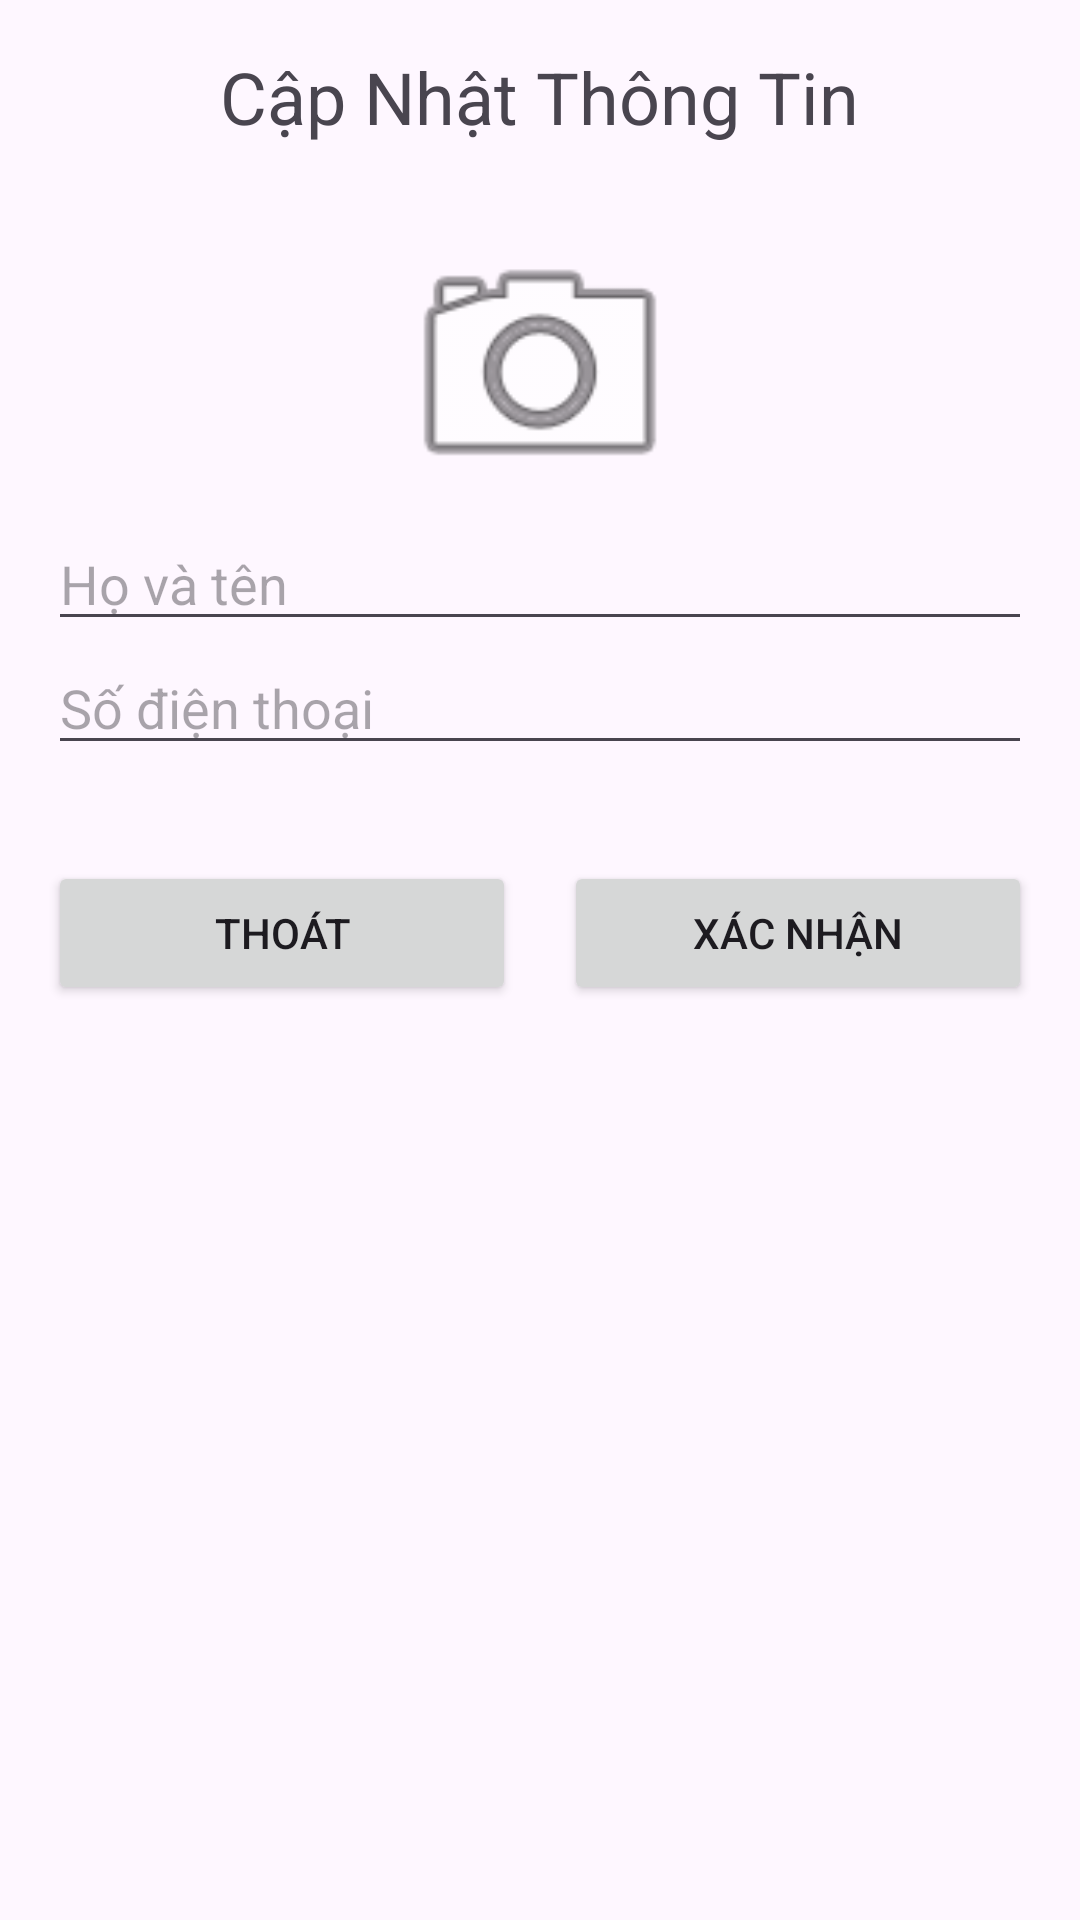

Named icons in this screenshot (1080px×1920px) and their centers, point (x, y):
camera: point (540, 362)
